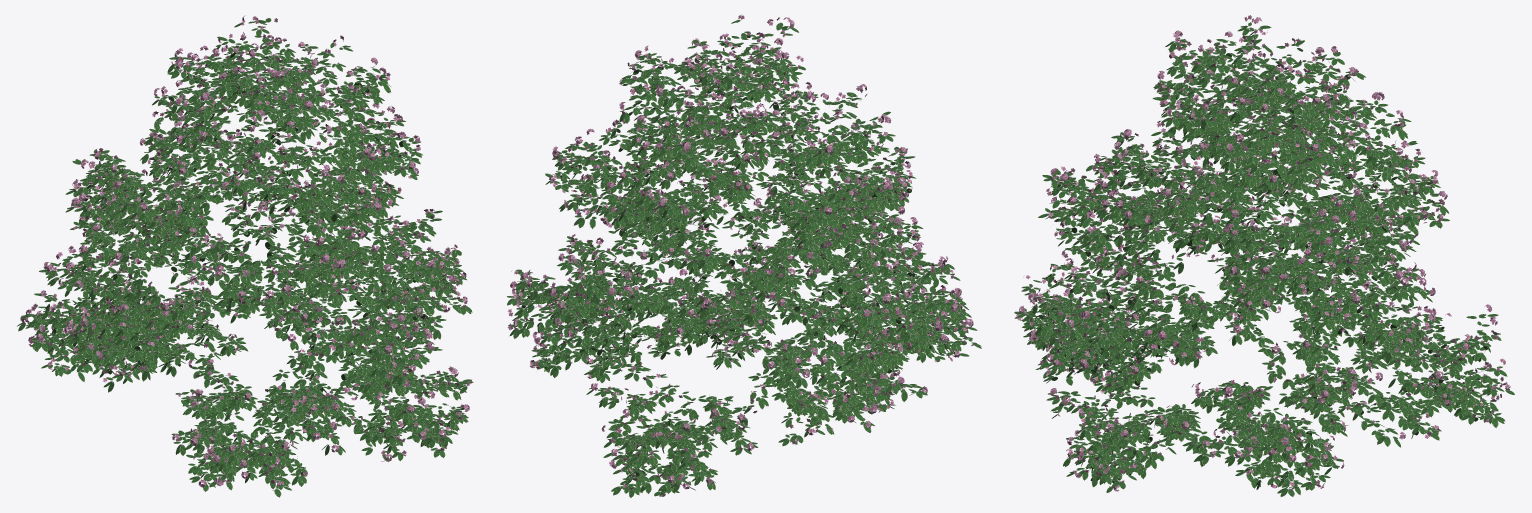
The model's file is MESH_TabebuiaRosea_A_LOD1.fbx.
The picture shows the model from 3 angles, left to right: view 1: azimuth 30°, elevation 25°; view 2: azimuth 150°, elevation 25°; view 3: azimuth 270°, elevation 25°; orthographic projection. The views are drawn at different scales.
Visible parts, largest first — view 1: MI_LOD1_001, MI_LOD1_002; view 2: MI_LOD1_001, MI_LOD1_002; view 3: MI_LOD1_001, MI_LOD1_002.
Boxes of the visible parts, left/top/right/bottom form: MI_LOD1_001: left=17, top=18, right=473, bottom=497; MI_LOD1_002: left=20, top=15, right=471, bottom=490; MI_LOD1_001: left=507, top=19, right=981, bottom=497; MI_LOD1_002: left=507, top=14, right=973, bottom=496; MI_LOD1_001: left=1014, top=22, right=1514, bottom=496; MI_LOD1_002: left=1016, top=15, right=1509, bottom=491.
Size of what is drawn, in the model's own units: 842 by 758 by 823.
